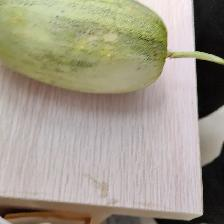gua: (36, 11, 176, 92)
